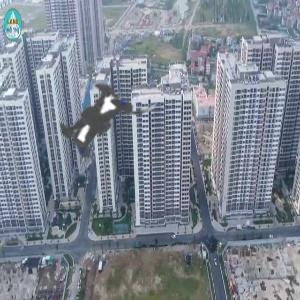drone: (2, 32, 184, 214)
